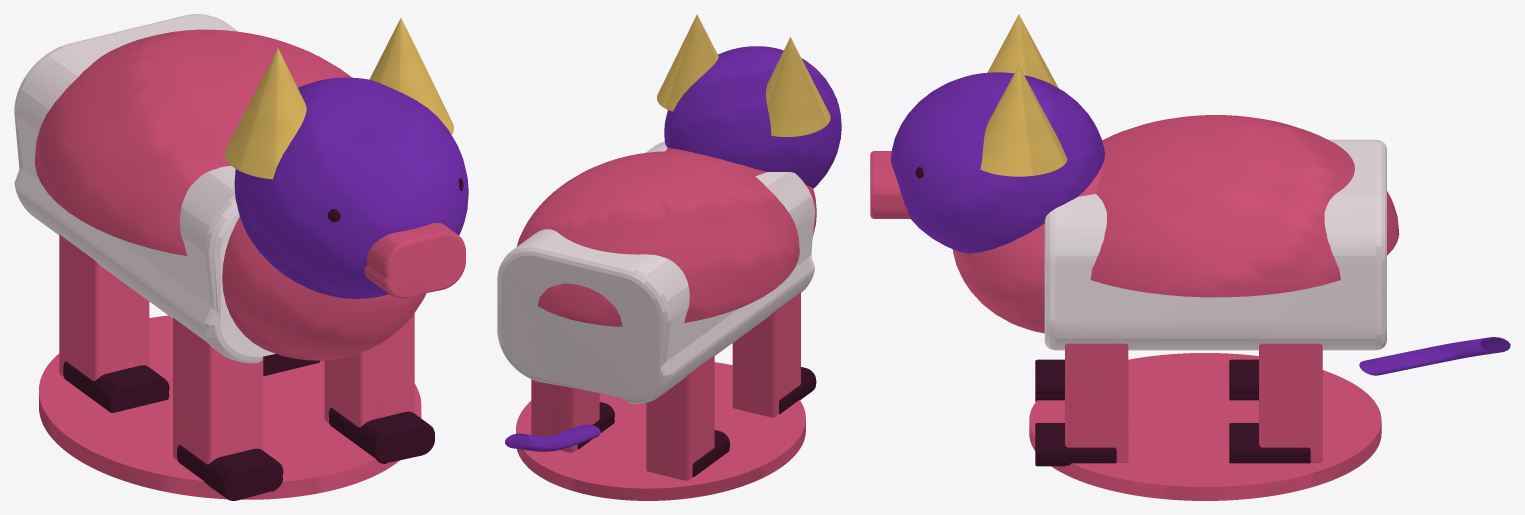
The model's file is 0853_有毒生物图鉴_玫瑰毒鲉.glb.
The picture shows the model from 3 angles, left to right: view 1: azimuth 30°, elevation 25°; view 2: azimuth 150°, elevation 25°; view 3: azimuth 270°, elevation 25°; orthographic projection. The views are drawn at different scales.
Parts seen in each view (by area): view 1: card_0853; view 2: card_0853; view 3: card_0853.
Part boxes in pixels (bbox=[...]): card_0853: bbox=[14, 14, 468, 500]; card_0853: bbox=[497, 14, 841, 500]; card_0853: bbox=[870, 14, 1510, 500].
Bounding box in the file's own units: 0.729 × 1 × 1.47.
